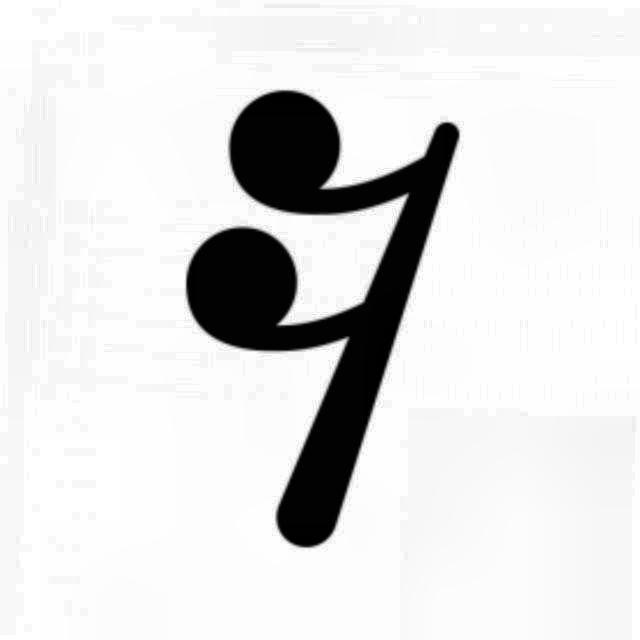Eighth-rest: (140, 79, 490, 557)
